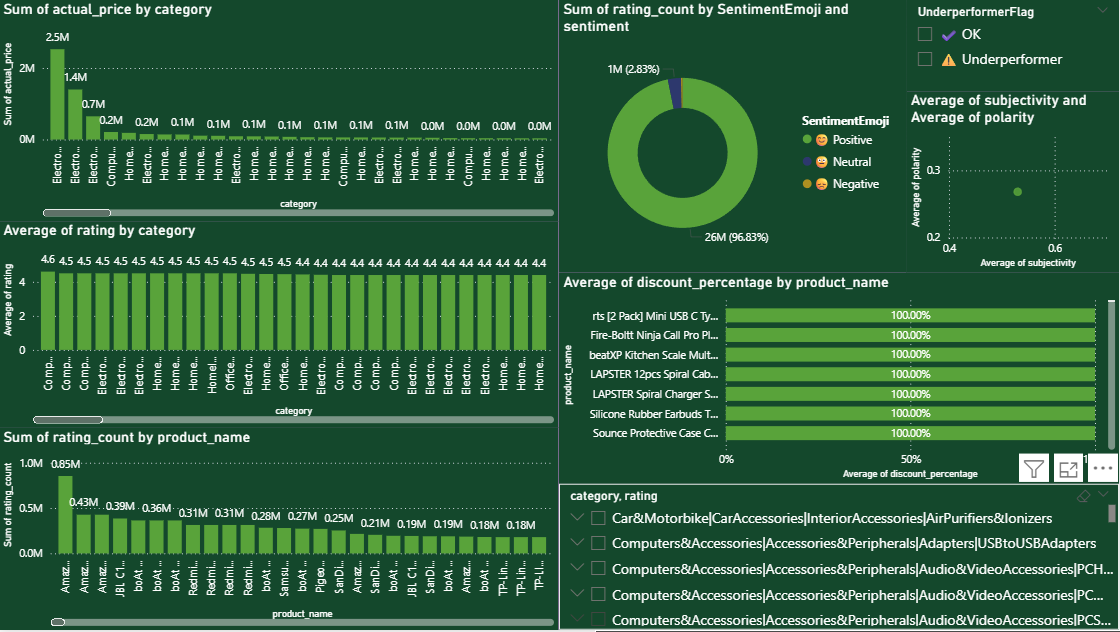

What the dashboard file says about the page in this screenshot:
{"tool":"powerbi","page":{"name":"Page 1","canvas":[1280,720],"ordinal":0},"visuals":[{"type":"columnChart","fields":{"Category":["Cleaned_amazon_data (2).category"],"Y":["Sum(Cleaned_amazon_data (2).actual_price)"]},"box":[0,0,639.5,252.5],"z":0},{"type":"clusteredColumnChart","fields":{"Y":["Avg(Cleaned_amazon_data (2).rating)"],"Category":["Cleaned_amazon_data (2).category"]},"box":[0,252.5,639.5,236],"z":1000},{"type":"donutChart","fields":{"Series":["Cleaned_amazon_data (2).sentiment"],"Y":["Sum(Cleaned_amazon_data (2).rating_count)"],"Category":["Cleaned_amazon_data (2).SentimentEmoji"]},"box":[639.5,0,397.9,311.5],"z":2000},{"type":"hundredPercentStackedBarChart","fields":{"Y":["Avg(Cleaned_amazon_data (2).discount_percentage)"],"Category":["Cleaned_amazon_data (2).product_name"]},"box":[639.5,311.5,640.8,241.5],"z":3000},{"type":"clusteredColumnChart","fields":{"Category":["Cleaned_amazon_data (2).product_name"],"Y":["Sum(Cleaned_amazon_data (2).rating_count)"]},"box":[0,488.5,639.5,231.9],"z":4000},{"type":"scatterChart","fields":{"X":["Avg(Cleaned_amazon_data (2).subjectivity)"],"Y":["Avg(Cleaned_amazon_data (2).polarity)"]},"box":[1037.4,104.3,242.9,207.2],"z":5000},{"type":"slicer","fields":{"Values":["Cleaned_amazon_data (2).category","Cleaned_amazon_data (2).rating"]},"box":[639.5,553,640.8,167.4],"z":6000},{"type":"slicer","fields":{"Values":["Cleaned_amazon_data (2).UnderperformerFlag"]},"box":[1037.4,0,242.9,104.3],"z":7000}]}

Visuals, with their boxes in screenshot pixels (x1, y1, x2, y2), scaled from the page's 1280x720 canvas onto the 1120x632 screenshot:
columnChart - Cleaned_amazon_data (2).category x Sum(Cleaned_amazon_data (2).actual_price): bbox=(0, 0, 560, 222)
clusteredColumnChart - Avg(Cleaned_amazon_data (2).rating) x Cleaned_amazon_data (2).category: bbox=(0, 222, 560, 429)
donutChart - Cleaned_amazon_data (2).sentiment x Sum(Cleaned_amazon_data (2).rating_count): bbox=(560, 0, 908, 273)
hundredPercentStackedBarChart - Avg(Cleaned_amazon_data (2).discount_percentage) x Cleaned_amazon_data (2).product_name: bbox=(560, 273, 1119, 485)
clusteredColumnChart - Cleaned_amazon_data (2).product_name x Sum(Cleaned_amazon_data (2).rating_count): bbox=(0, 429, 560, 631)
scatterChart - Avg(Cleaned_amazon_data (2).subjectivity) x Avg(Cleaned_amazon_data (2).polarity): bbox=(908, 92, 1119, 273)
slicer - Cleaned_amazon_data (2).category x Cleaned_amazon_data (2).rating: bbox=(560, 485, 1119, 631)
slicer - Cleaned_amazon_data (2).UnderperformerFlag: bbox=(908, 0, 1119, 92)
